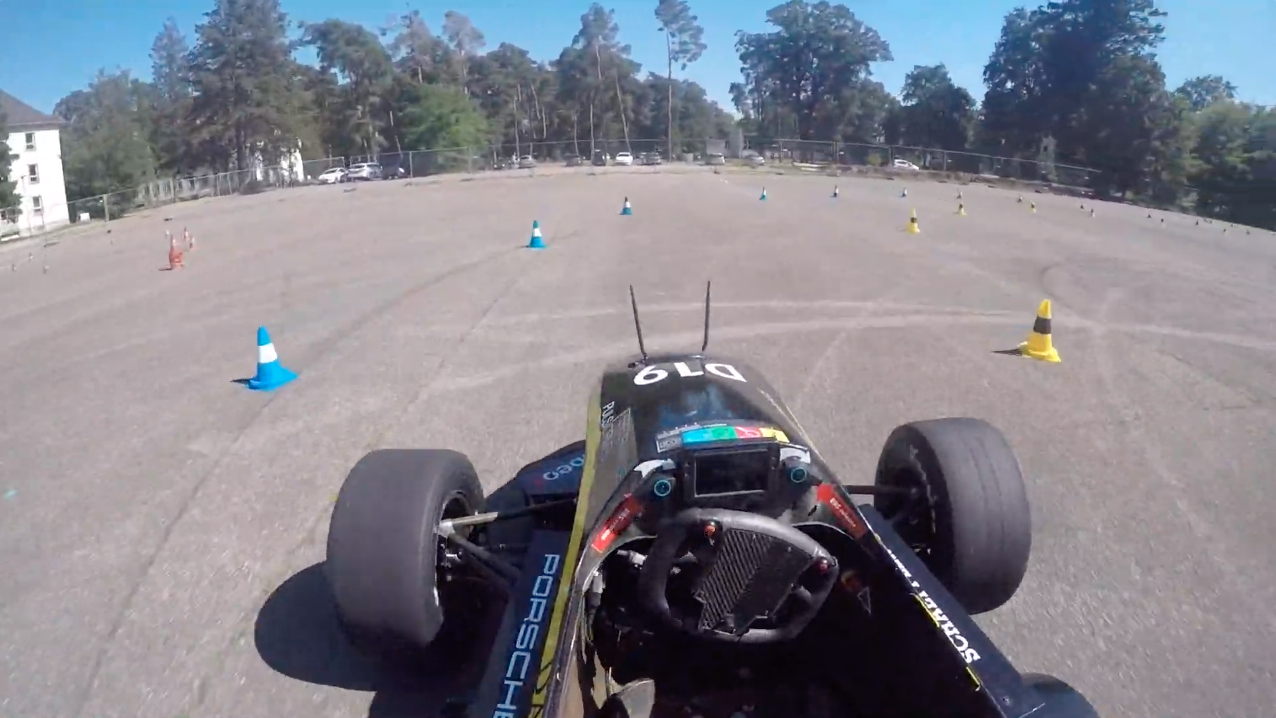lcone: (242, 322, 302, 395), (524, 216, 550, 251), (619, 193, 636, 218)
rcone: (1013, 295, 1066, 364), (903, 207, 925, 236)
